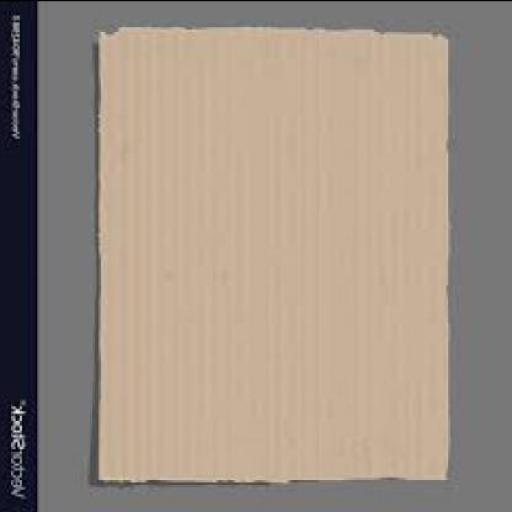cardboard: (97, 26, 452, 488)
